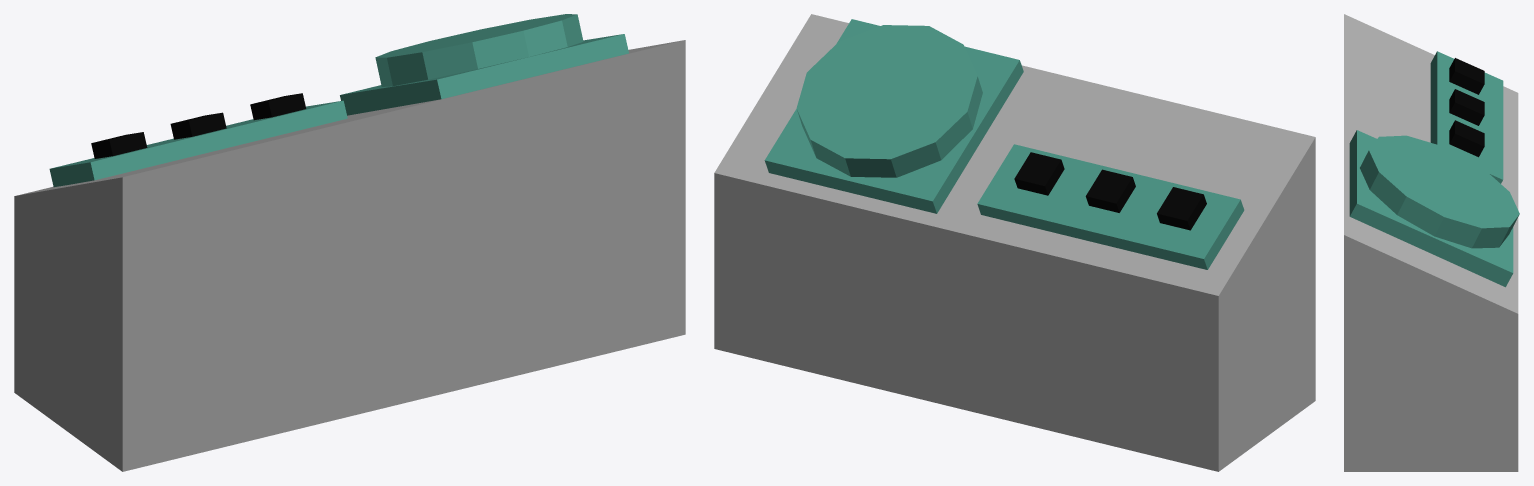
The model's file is 控制台2.fbx.
The picture shows the model from 3 angles, left to right: view 1: azimuth 30°, elevation 25°; view 2: azimuth 150°, elevation 25°; view 3: azimuth 270°, elevation 25°; orthographic projection. The views are drawn at different scales.
Visible parts, largest first — view 1: 柱体; view 2: 柱体; view 3: 柱体.
Part boxes in pixels (<box>): 柱体: <box>14,14,685,471</box>; 柱体: <box>714,14,1315,471</box>; 柱体: <box>1344,14,1519,471</box>.
Bounding box in the file's own units: 300 × 167 × 101.
